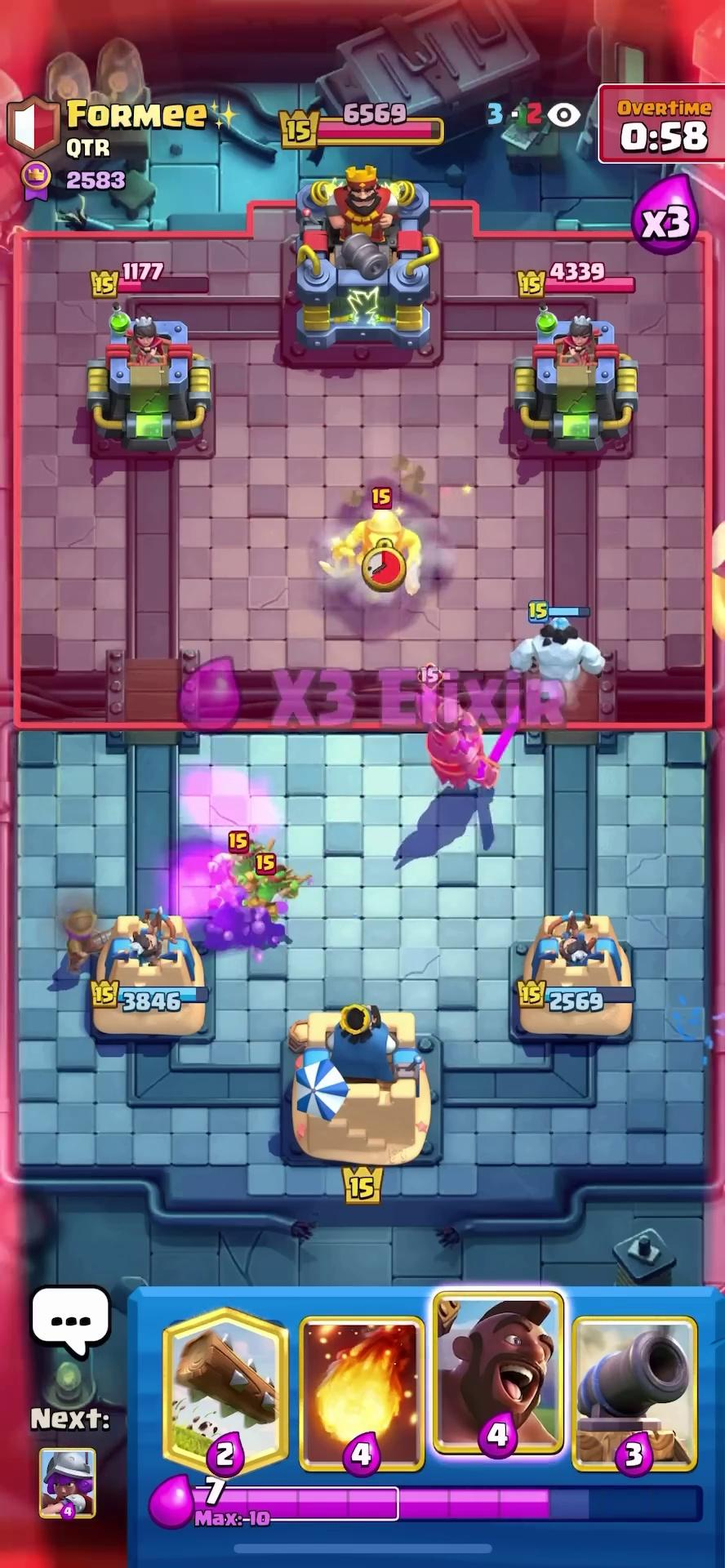ice_golem: (514, 596, 616, 698)
musketeer: (41, 894, 120, 972)
